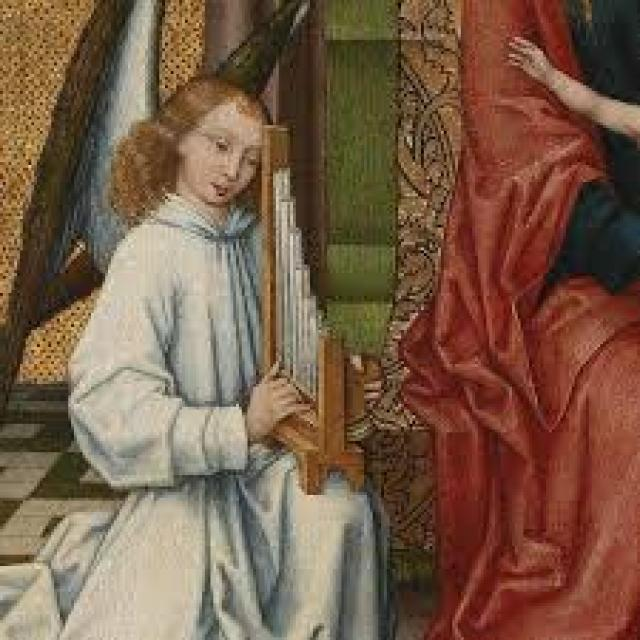angel: (35, 4, 400, 640)
